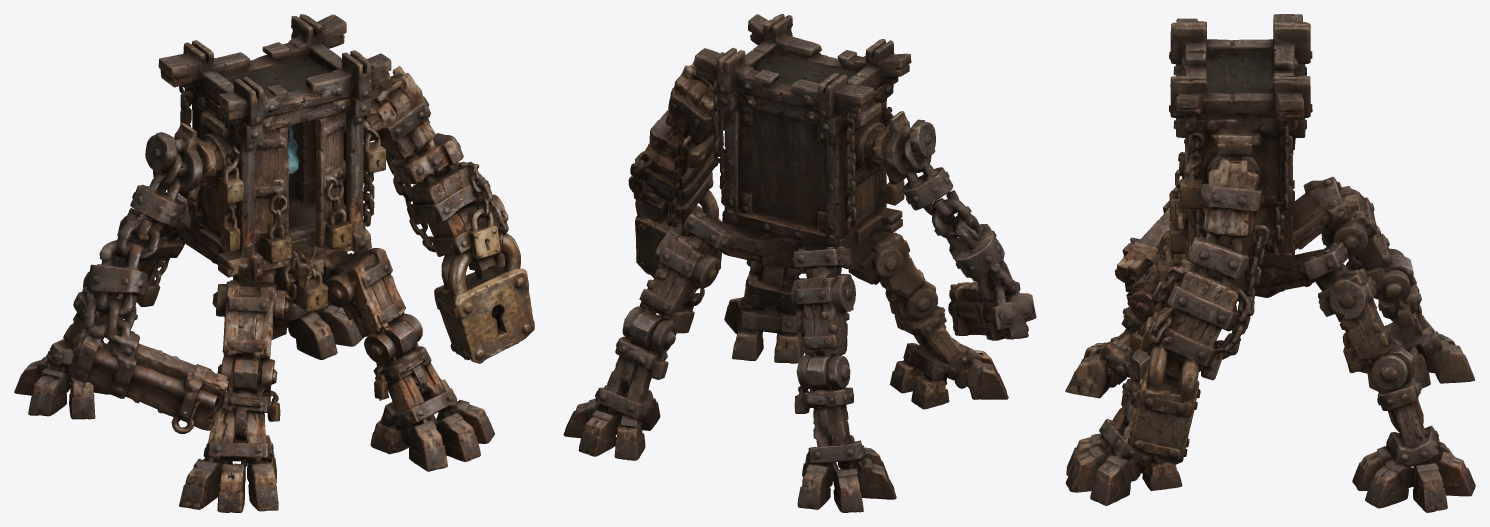
File: latch_tripo_h31_raw.glb
3 views of the same model, side by side, from view 1: azimuth 30°, elevation 25°; view 2: azimuth 150°, elevation 25°; view 3: azimuth 270°, elevation 25° (orthographic). The views are drawn at different scales.
Parts seen in each view (by area): view 1: tripo_node_d9a9d156-deaf-4f08-a7e6-1198a37b1c47; view 2: tripo_node_d9a9d156-deaf-4f08-a7e6-1198a37b1c47; view 3: tripo_node_d9a9d156-deaf-4f08-a7e6-1198a37b1c47.
Part boxes in pixels (<box>): tripo_node_d9a9d156-deaf-4f08-a7e6-1198a37b1c47: <box>14,14,534,512</box>; tripo_node_d9a9d156-deaf-4f08-a7e6-1198a37b1c47: <box>563,14,1036,512</box>; tripo_node_d9a9d156-deaf-4f08-a7e6-1198a37b1c47: <box>1065,14,1475,512</box>.
Bounding box in the file's own units: 1 × 0.8326 × 0.8029.
1 material, 1 textured.
